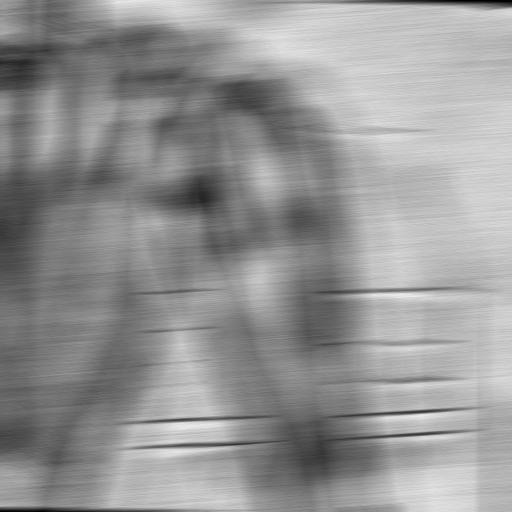house: (124, 51, 503, 476)
